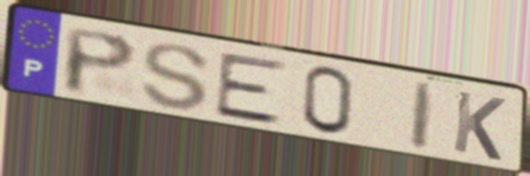0: (300, 64, 356, 139)
E: (212, 51, 291, 129)
I: (407, 79, 440, 155)
K: (449, 88, 509, 165)
P: (63, 25, 141, 99)
S: (138, 41, 214, 113)
